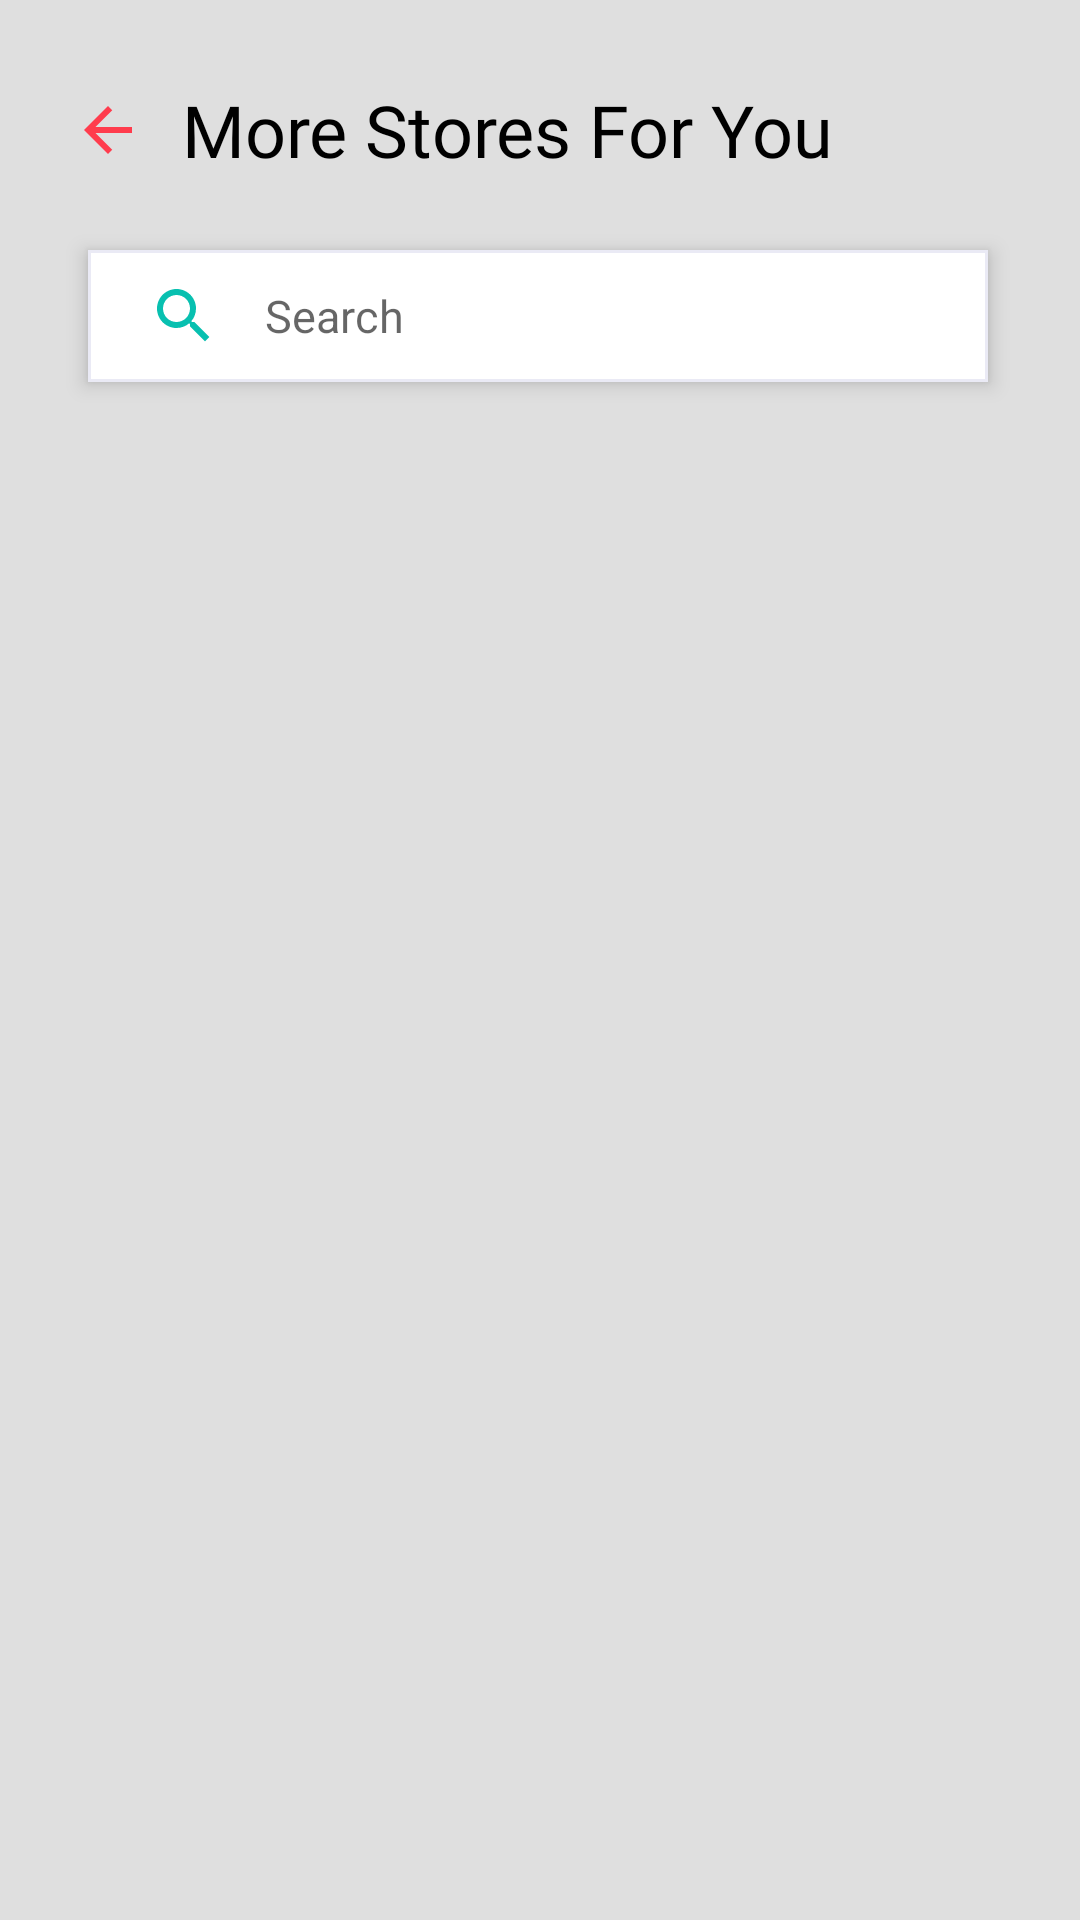

Where to tap for icons on this 1080 × 1920 app screen, as [x,y]:
arrow back: [108,130]
